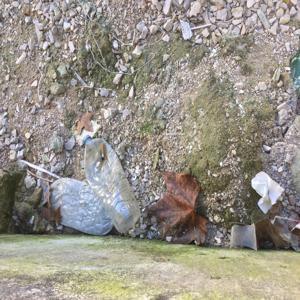paper: (247, 172, 284, 221)
plastic bottle: (40, 170, 119, 234), (84, 142, 140, 228)
